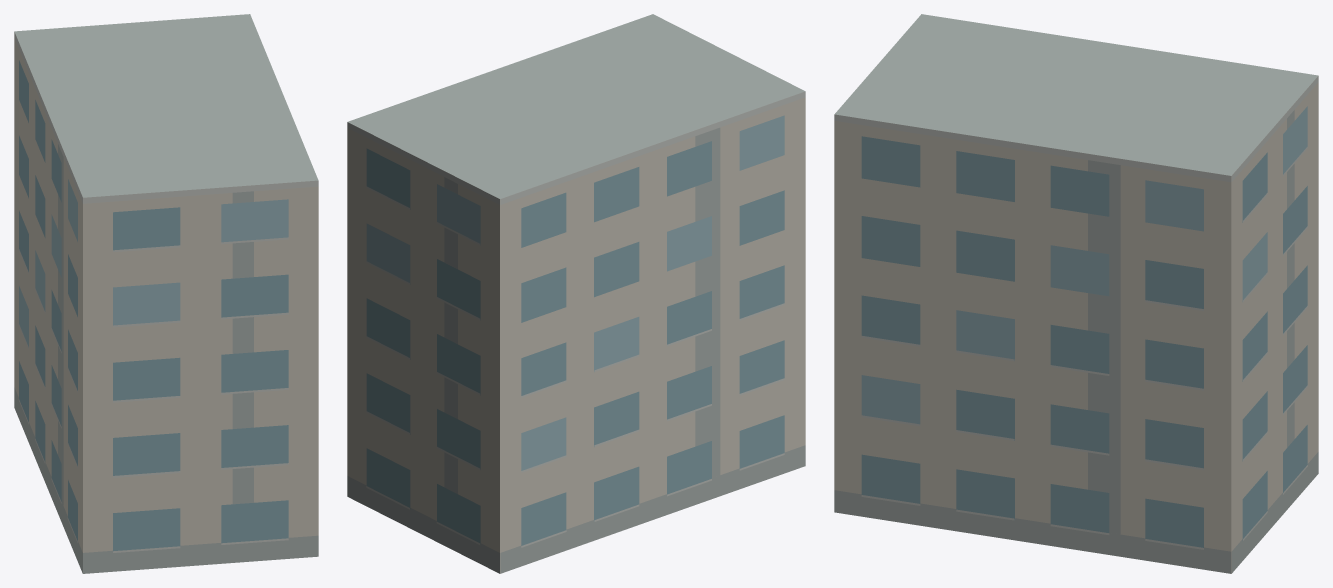
Rendered from residential-1af8c9d7-05fb-456d-8cc0-7692438df290.glb.
3 views of the same model, side by side, from view 1: azimuth 30°, elevation 25°; view 2: azimuth 150°, elevation 25°; view 3: azimuth 270°, elevation 25° (orthographic). The views are drawn at different scales.
Visible parts, largest first — view 1: residential-1af8c9d7-05fb-456d-8cc0-7692438df290.tmp; view 2: residential-1af8c9d7-05fb-456d-8cc0-7692438df290.tmp; view 3: residential-1af8c9d7-05fb-456d-8cc0-7692438df290.tmp.
Part boxes in pixels (x1,y1,x2,y2): residential-1af8c9d7-05fb-456d-8cc0-7692438df290.tmp: (14, 14, 318, 573); residential-1af8c9d7-05fb-456d-8cc0-7692438df290.tmp: (347, 14, 805, 573); residential-1af8c9d7-05fb-456d-8cc0-7692438df290.tmp: (834, 14, 1318, 573).
Size of the model in its own units: 13.32 by 15.25 by 16.83.
